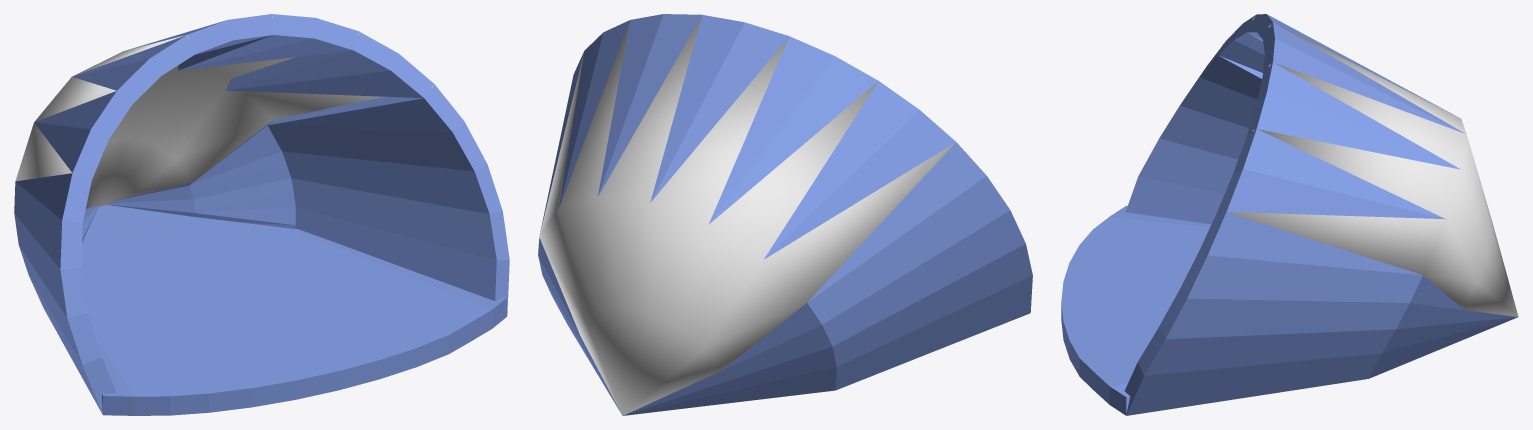
Rendered from Cockpit4.fbx.
3 renders of one model, left to right at view 1: azimuth 30°, elevation 25°; view 2: azimuth 150°, elevation 25°; view 3: azimuth 270°, elevation 25°, orthographic. The views are drawn at different scales.
Parts seen in each view (by area): view 1: Cone, Cone.001; view 2: Cone, Cone.001; view 3: Cone, Cone.001.
Part boxes in pixels (x1,y1,x2,y2): Cone: (14, 14, 509, 415); Cone.001: (15, 15, 433, 208); Cone: (538, 14, 1032, 415); Cone.001: (539, 16, 955, 415); Cone: (1061, 14, 1517, 415); Cone.001: (1222, 15, 1518, 316).
Size of the model in its own units: 7111 by 4535 by 6656.
